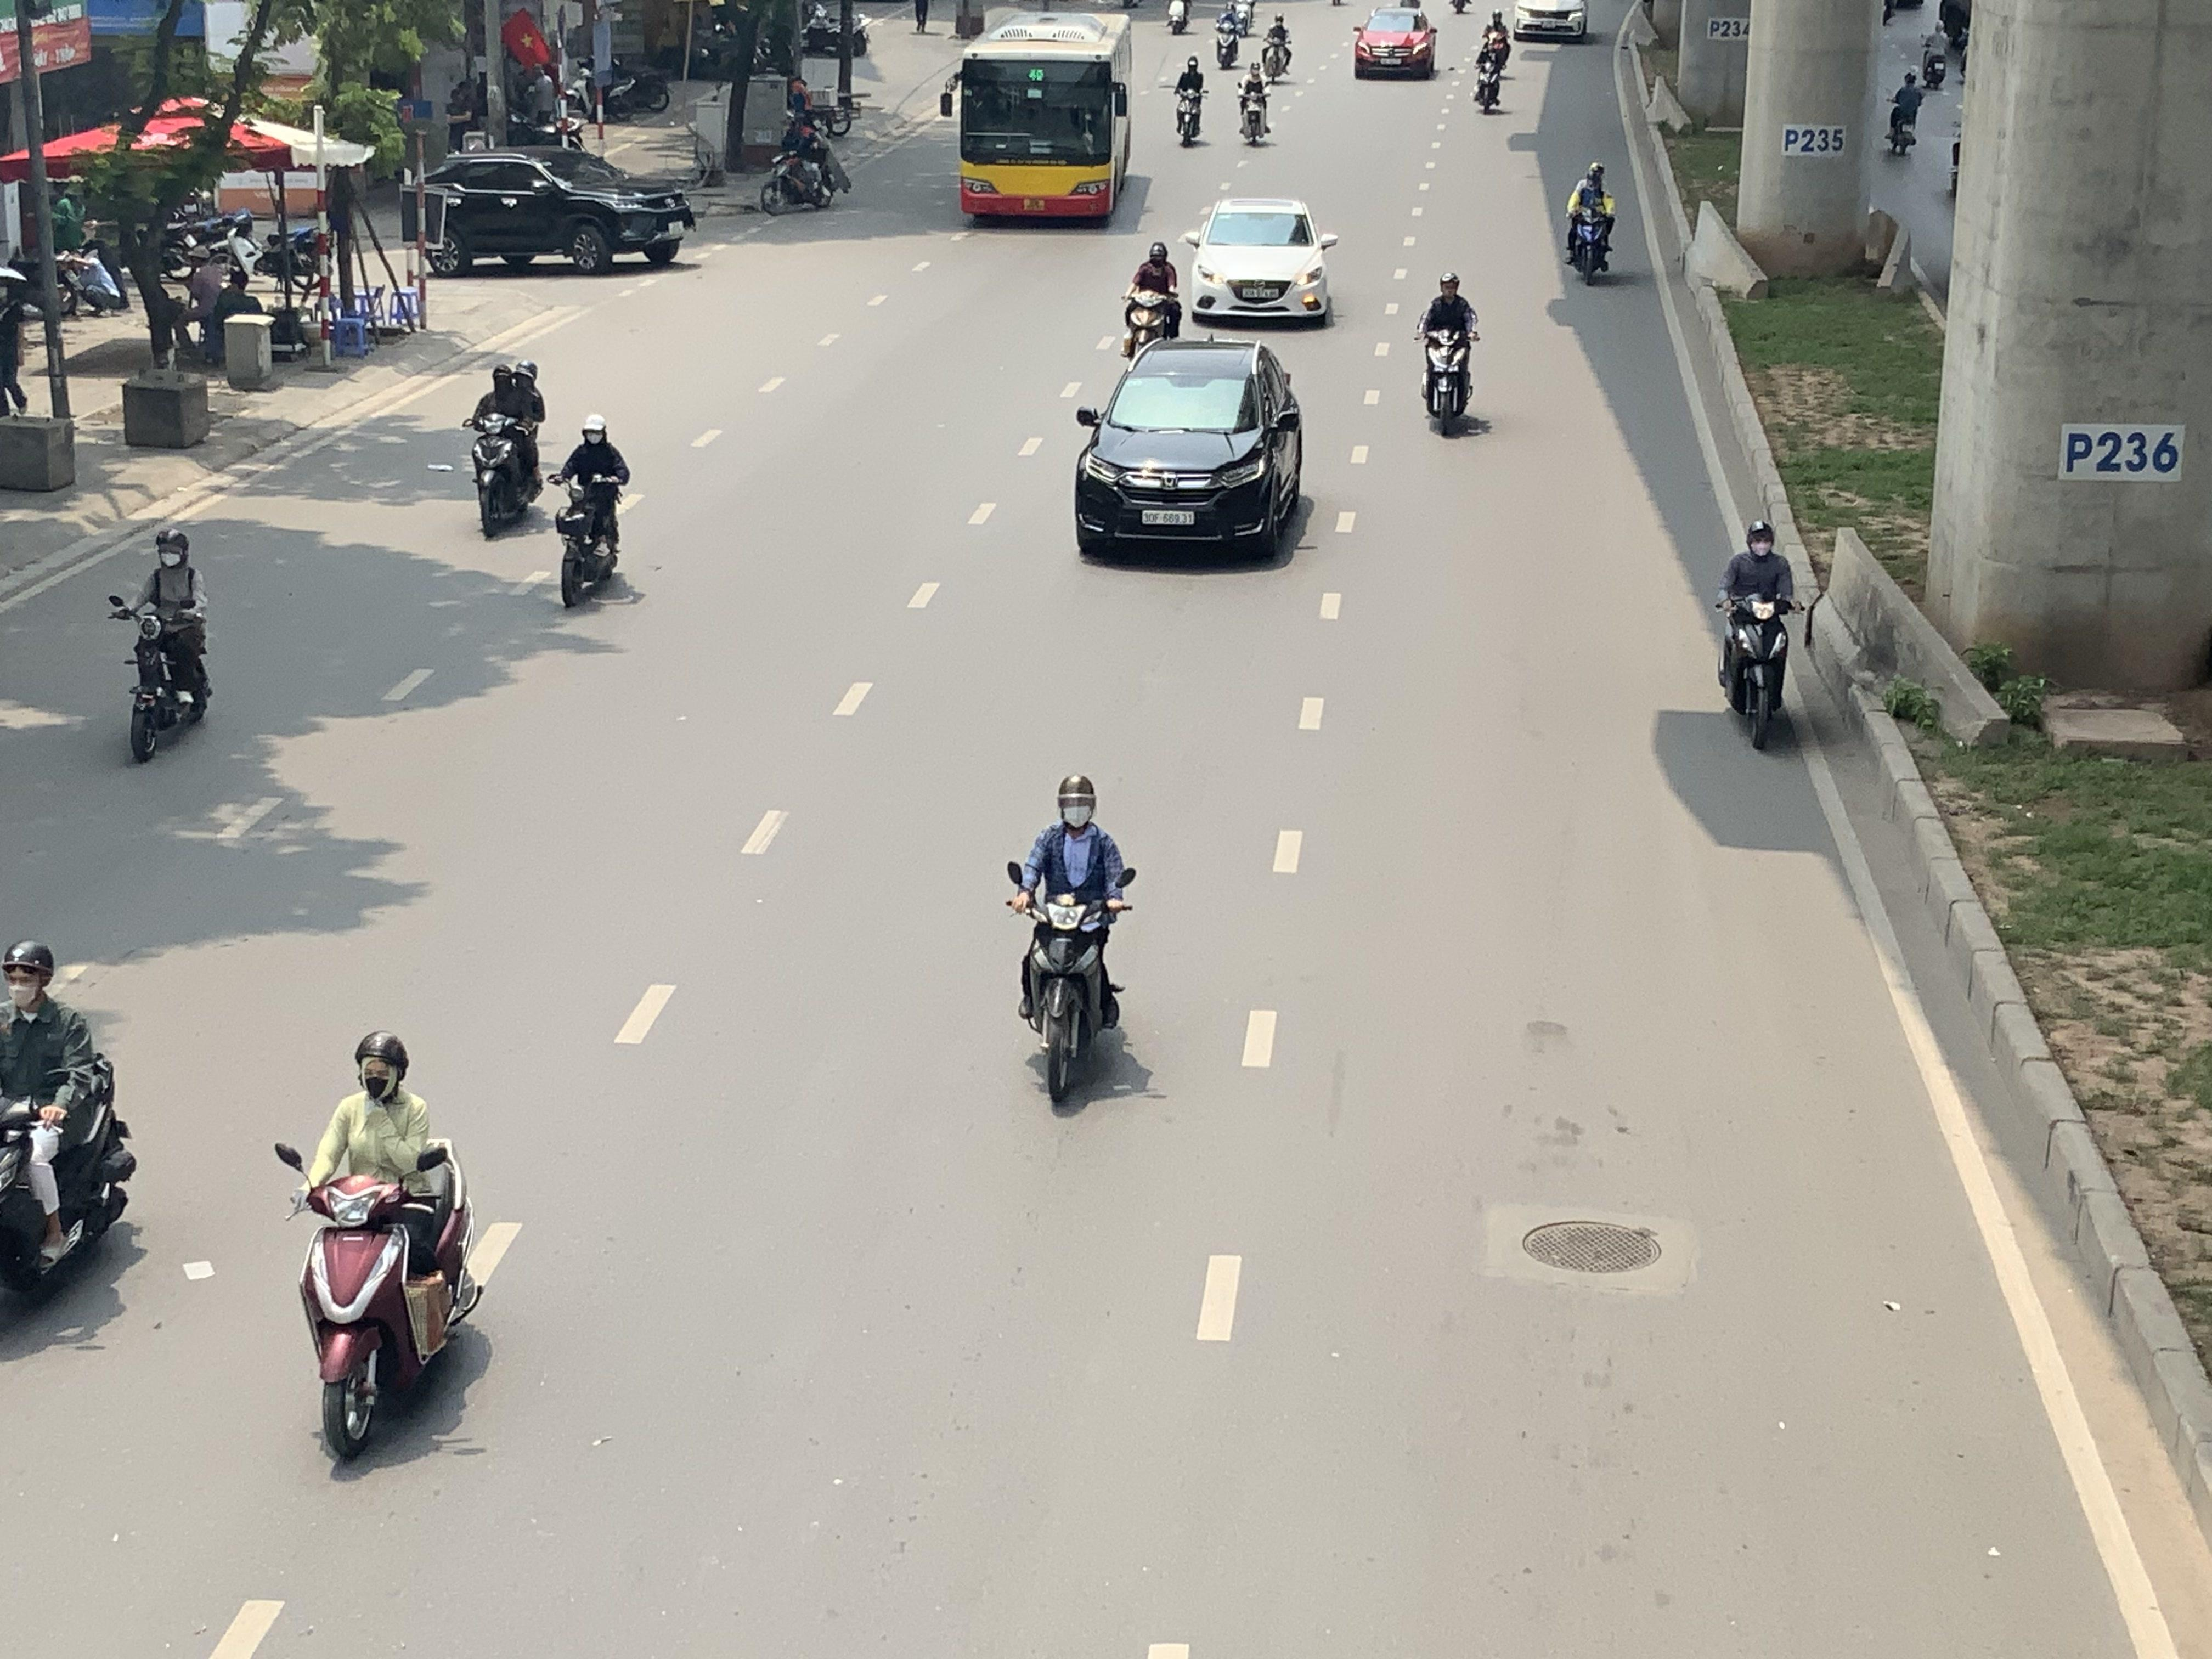BSD: (1143, 509, 1195, 525)
bus: (953, 10, 1136, 227)
car: (1071, 336, 1310, 566), (416, 146, 695, 277), (1184, 197, 1339, 329), (1352, 5, 1437, 80)
motorbike: (277, 1030, 482, 1467), (0, 939, 138, 1335), (1007, 772, 1136, 1112), (111, 528, 214, 765), (1714, 519, 1797, 753), (549, 413, 632, 612), (467, 357, 549, 542), (1418, 272, 1480, 437), (759, 115, 848, 214), (1120, 240, 1184, 362), (1566, 162, 1616, 286), (1170, 52, 1211, 148), (1885, 68, 1926, 157), (1235, 58, 1275, 146), (1472, 37, 1507, 113), (1261, 12, 1296, 82), (1212, 2, 1247, 68), (1479, 9, 1512, 71), (1165, 0, 1193, 33)
